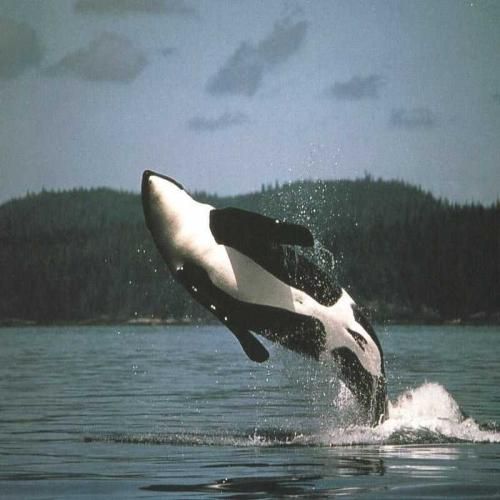killer_whale-endangered: (125, 142, 425, 435)
